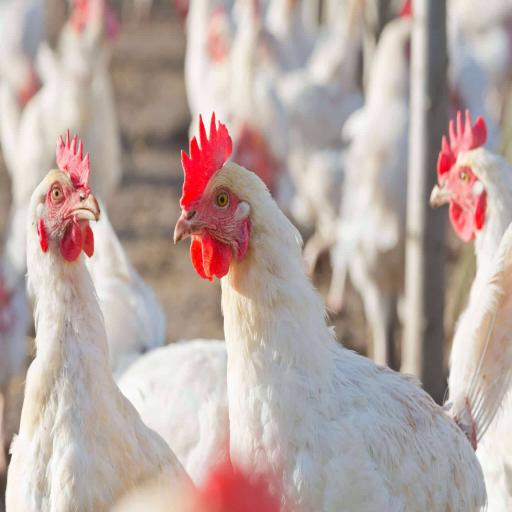healthy: (26, 118, 125, 273), (172, 114, 258, 286), (428, 104, 493, 233)
